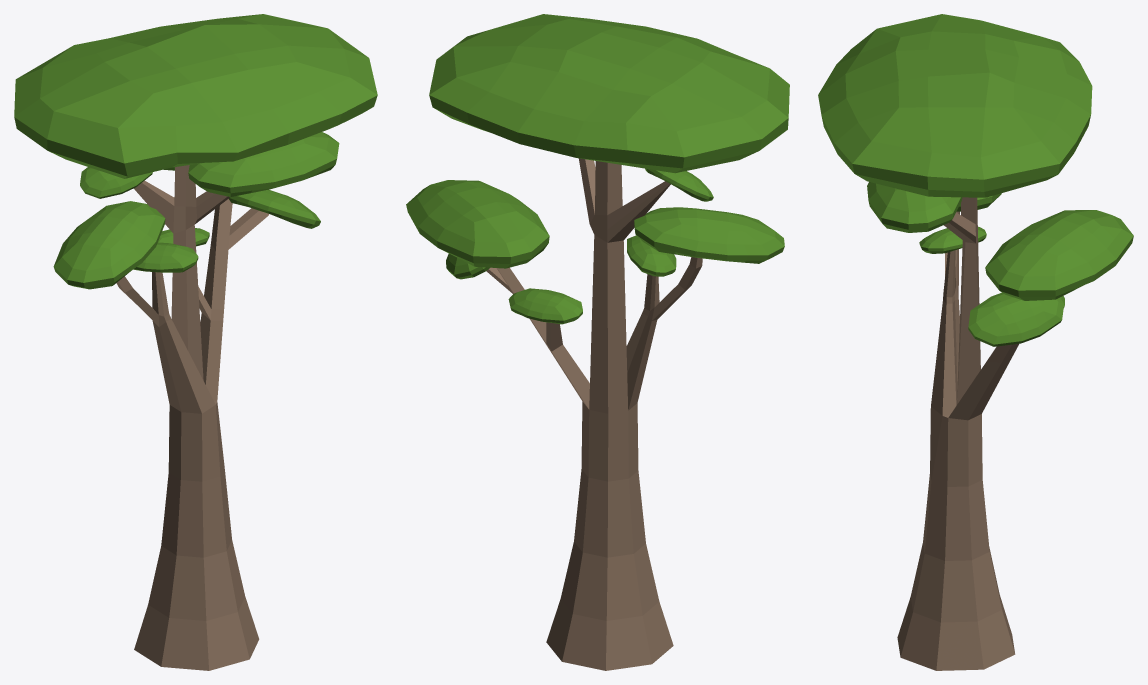
Rendered from Tree_M_A.fbx.
3 views of the same model, side by side, from view 1: azimuth 30°, elevation 25°; view 2: azimuth 150°, elevation 25°; view 3: azimuth 270°, elevation 25° (orthographic). The views are drawn at different scales.
Parts seen in each view (by area): view 1: Tree_M_A; view 2: Tree_M_A; view 3: Tree_M_A.
Part boxes in pixels (bbox=[...]): Tree_M_A: bbox=[14, 14, 377, 670]; Tree_M_A: bbox=[406, 14, 789, 670]; Tree_M_A: bbox=[818, 14, 1133, 670].
Bounding box in the file's own units: 572 × 1004 × 491.
